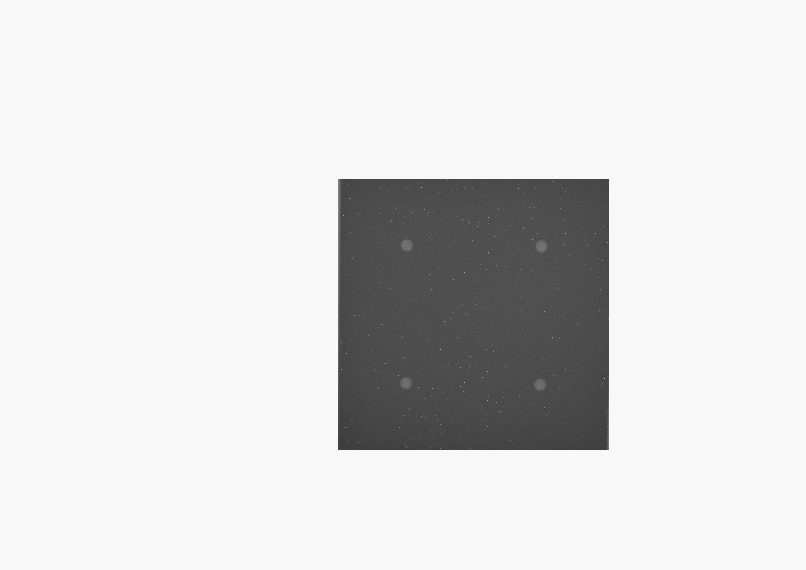bubble: (399, 238, 413, 252), (534, 240, 547, 253), (399, 377, 412, 390), (533, 379, 546, 390)
